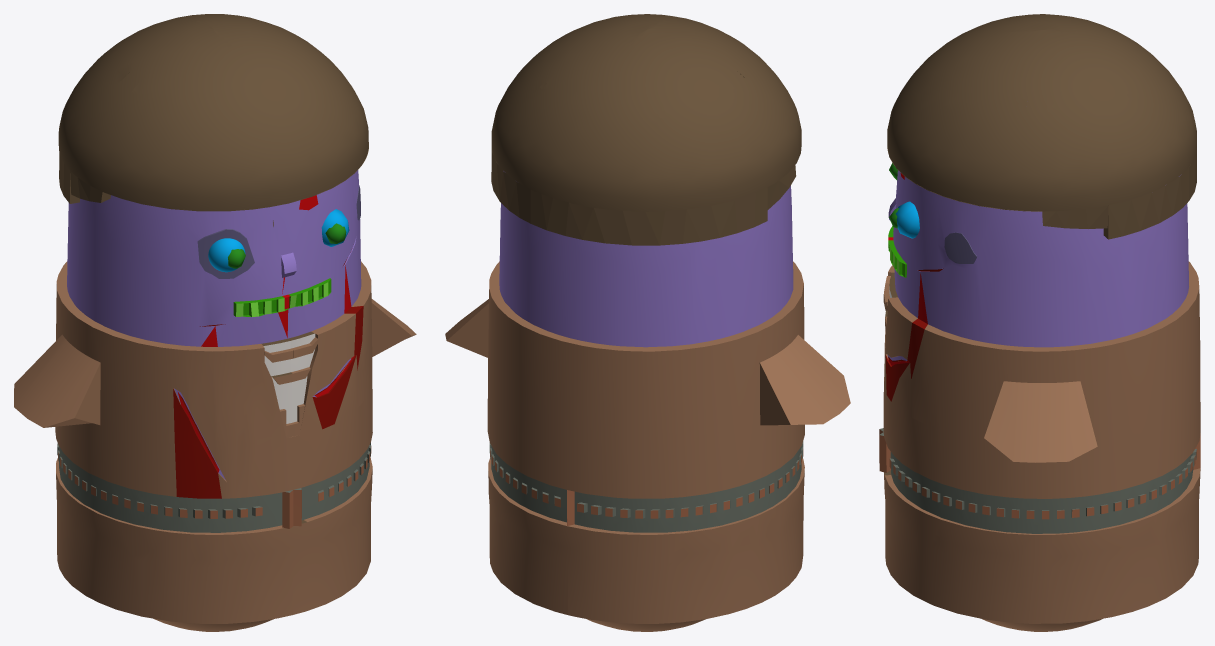
Rendered from InjuredLowPolyfbx.fbx.
3 views of the same model, side by side, from view 1: azimuth 30°, elevation 25°; view 2: azimuth 150°, elevation 25°; view 3: azimuth 270°, elevation 25° (orthographic).
Parts seen in each view (by area): view 1: Sphere, Sphere.001, Sphere.002; view 2: Sphere; view 3: Sphere, Sphere.001.
Part boxes in pixels (<box>): Sphere: <box>14,14,416,631</box>; Sphere.001: <box>208,209,349,272</box>; Sphere.002: <box>228,223,346,268</box>; Sphere: <box>445,14,850,631</box>; Sphere: <box>879,14,1200,631</box>; Sphere.001: <box>895,201,919,238</box>.
Size of the model in its own units: 234 by 346 by 171.
